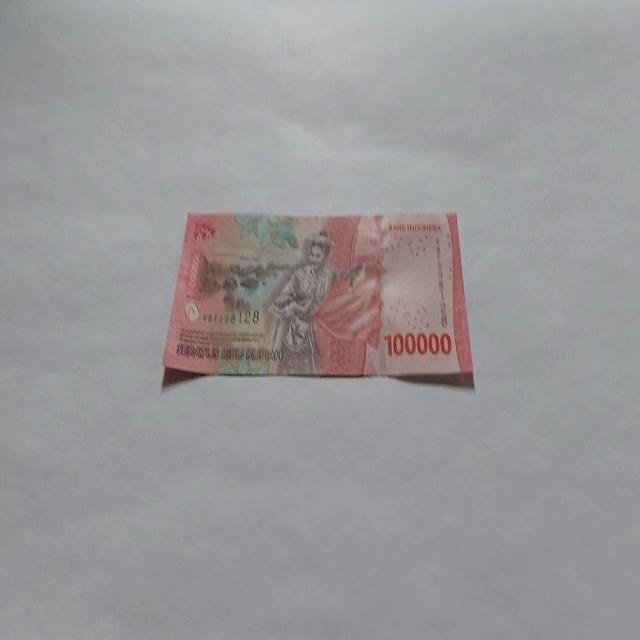seratus ribu rupiah: (161, 208, 475, 390), (263, 226, 367, 375)
